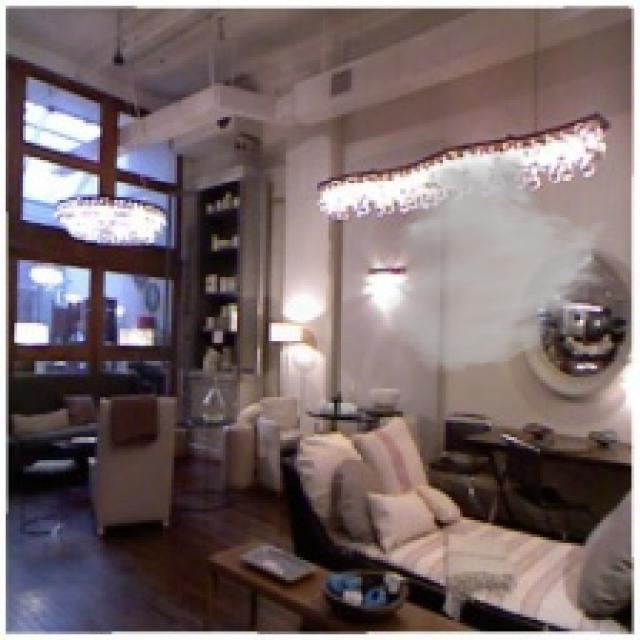Smoke: (383, 148, 611, 374)
